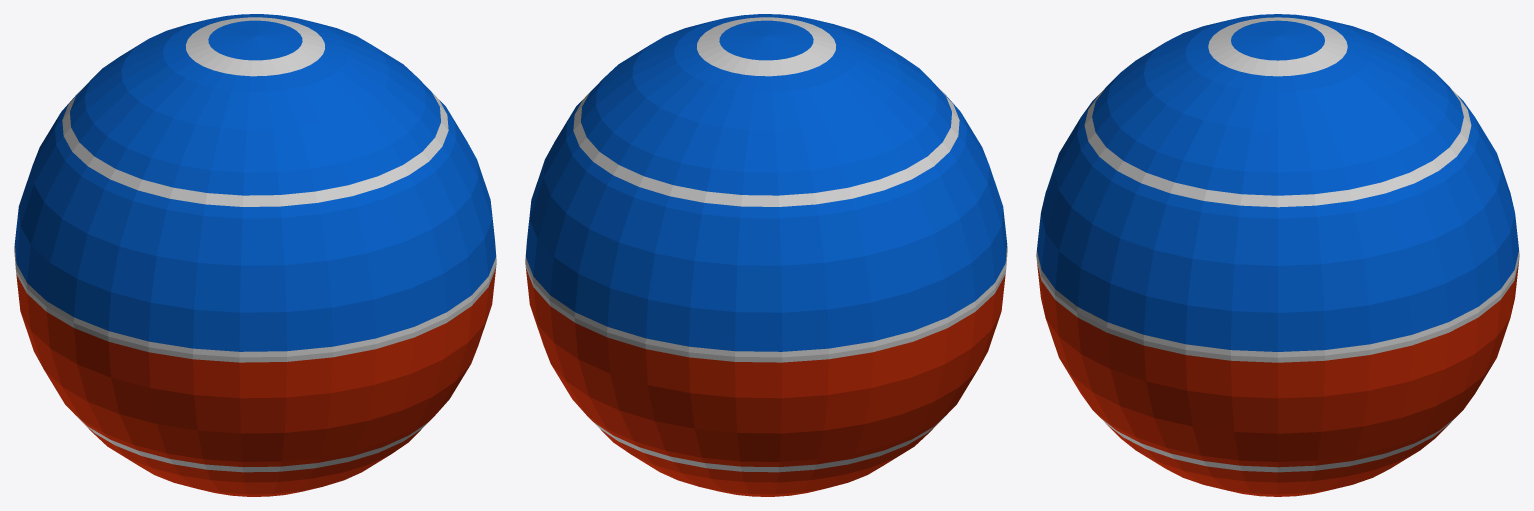
The model's file is navball.obj.
3 renders of one model, left to right at view 1: azimuth 30°, elevation 25°; view 2: azimuth 150°, elevation 25°; view 3: azimuth 270°, elevation 25°, orthographic.
Parts seen in each view (by area): view 1: Sphere; view 2: Sphere; view 3: Sphere.
Boxes of the visible parts, x1=… form: Sphere: x1=14, y1=14, x2=496, y2=496; Sphere: x1=525, y1=14, x2=1007, y2=496; Sphere: x1=1036, y1=14, x2=1519, y2=496.
Size of the model in its own units: 4 by 4 by 4.
